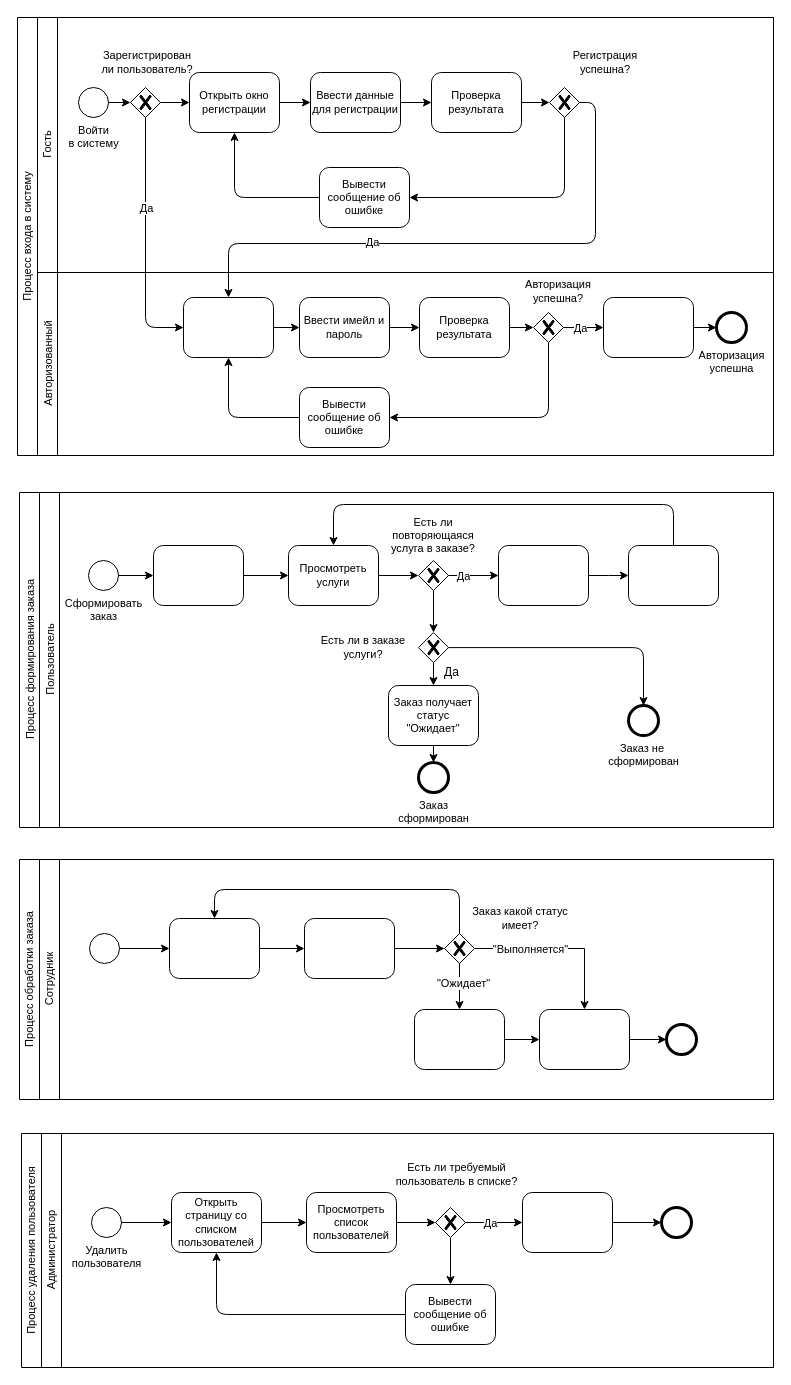
Some shapes in this 791 by 1385 pixel diagram are drawn without their labels. Here are the shapes that lost their labels. From the top down, the centre of each, then its label:
(228,327): Открыть окно авторизации
(648,327): Перевести пользователя на главную страницу
(198,575): Открыть страницу каталога
(543,575): Перейти на страницу услуги
(673,575): Добавить услугу в заказ, указывая детали услуги
(104,948): Обработать заказ
(214,948): Открыть страницу с доступными заказами
(349,948): Проверить статус заказа
(459,1039): Изменить статус заказа на "Выполняется"
(584,1039): Изменить статус заказа на "Выполнен"
(681,1039): Заказ обработан
(567,1222): Удалить учетную запись пользователя
(676,1222): Пользователь удален
